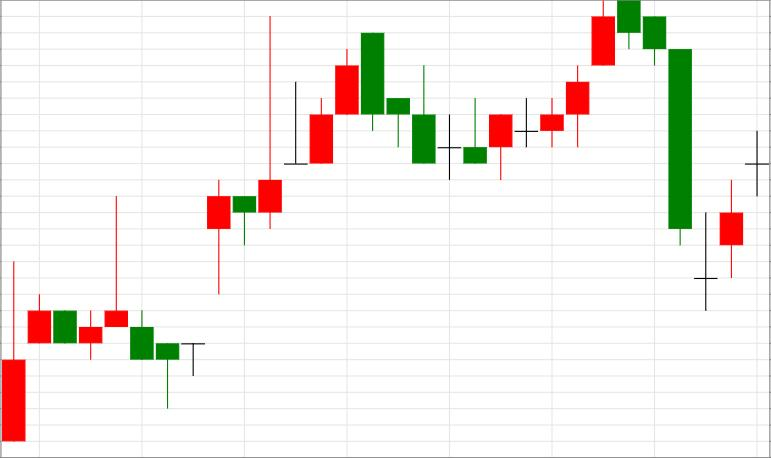bearish_engulfing_fall: (208, 17, 384, 295)
